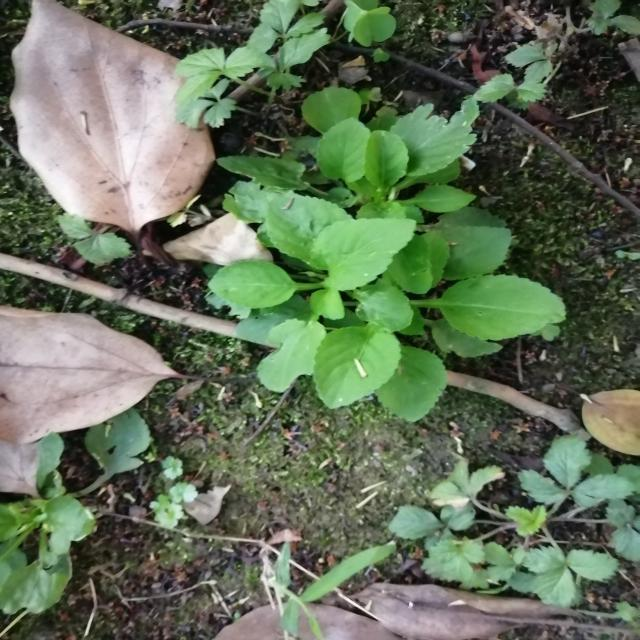Viola: (204, 165, 544, 443)
